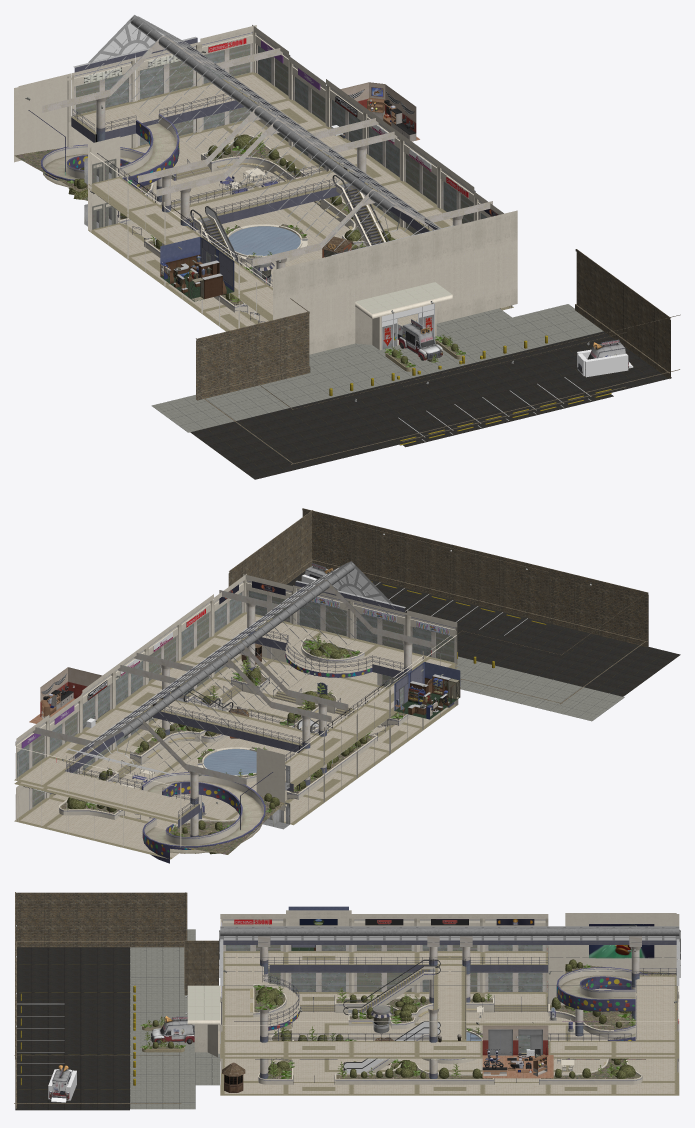
Rendered from mall ice cream 3.glb.
3 views of the same model, one above another, from view 1: azimuth 30°, elevation 25°; view 2: azimuth 150°, elevation 25°; view 3: azimuth 270°, elevation 25° (orthographic). The views are drawn at different scales.
Parts seen in each view (by area): view 1: CentroComercial_ParedExterior, CentroComercial_Asfalto (1), CentroComercial_Asfalto (×2), CentroCOmercial_BaldosaExterior (1), CentroCOmercial_BaldosaExterior, Pared_Esquina (×2), polySurface358, CentroComercial_MuroExterior_4 (7), CentroComercial_MuroExterior_4 (5), VigaTubo, Barandilla (×2), polySurface471 (1) (+33 smaller); view 2: CentroComercial_MuroExterior (×2), CentroComercial_Asfalto (1), polySurface358, CentroCOmercial_BaldosaExterior (1), Barandilla (×2), CentroComercial_MuroExterior_3 (1), CentroComercial_MuroExterior_4 (1), VigaTubo, CentroComercial_Asfalto, CentroComercial_MuroExterior_1 (1), polySurface530, polySurface470 (+30 smaller); view 3: CentroComercial_Asfalto, CentroComercial_Asfalto (1), CentroCOmercial_BaldosaExterior, VigaTubo, CentroCOmercial_BaldosaExterior (1), polySurface358, Pared_Esquina (×2), CentroComercial_MuroExterior_4 (4), CentroComercial_MuroExterior_4 (3), CentroComercial_MuroExterior_4 (2), Barandilla (×2), CentroComercial_MuroExterior_4 (6) (+47 smaller).
Boxes of the visible parts, x1=… form: CentroComercial_ParedExterior: x1=273, y1=210, x2=517, y2=354; CentroComercial_Asfalto (1): x1=190, y1=381, x2=462, y2=479; CentroComercial_Asfalto (×2): x1=399, y1=331, x2=671, y2=447; CentroCOmercial_BaldosaExterior (1): x1=151, y1=355, x2=396, y2=432; CentroCOmercial_BaldosaExterior: x1=360, y1=304, x2=603, y2=381; Pared_Esquina (×2): x1=14, y1=73, x2=131, y2=162; polySurface358: x1=41, y1=114, x2=179, y2=225; CentroComercial_MuroExterior_4 (7): x1=252, y1=311, x2=310, y2=386; CentroComercial_MuroExterior_4 (5): x1=196, y1=325, x2=252, y2=400; VigaTubo: x1=130, y1=16, x2=396, y2=213; Barandilla (×2): x1=72, y1=89, x2=434, y2=286; polySurface471 (1): x1=71, y1=52, x2=135, y2=116; CentroComercial_MuroExterior (×2): x1=350, y1=520, x2=549, y2=622; CentroComercial_Asfalto (1): x1=457, y1=610, x2=680, y2=696; polySurface358: x1=142, y1=772, x2=265, y2=863; CentroCOmercial_BaldosaExterior (1): x1=455, y1=656, x2=624, y2=721; Barandilla (×2): x1=66, y1=627, x2=406, y2=818; CentroComercial_MuroExterior_3 (1): x1=598, y1=580, x2=648, y2=647; CentroComercial_MuroExterior_4 (1): x1=548, y1=568, x2=598, y2=634; VigaTubo: x1=120, y1=562, x2=354, y2=737; CentroComercial_Asfalto: x1=287, y1=571, x2=494, y2=636; CentroComercial_MuroExterior_1 (1): x1=302, y1=508, x2=350, y2=570; polySurface530: x1=350, y1=594, x2=407, y2=650; polySurface470: x1=293, y1=580, x2=350, y2=637; CentroComercial_Asfalto: x1=15, y1=1020, x2=129, y2=1110; CentroComercial_Asfalto (1): x1=17, y1=947, x2=129, y2=1020; CentroCOmercial_BaldosaExterior: x1=130, y1=1019, x2=195, y2=1109; VigaTubo: x1=220, y1=928, x2=679, y2=936; CentroCOmercial_BaldosaExterior (1): x1=130, y1=929, x2=195, y2=1019; polySurface358: x1=548, y1=967, x2=648, y2=1040; Pared_Esquina (×2): x1=565, y1=913, x2=679, y2=972; CentroComercial_MuroExterior_4 (4): x1=130, y1=892, x2=187, y2=947; CentroComercial_MuroExterior_4 (3): x1=73, y1=892, x2=130, y2=947; CentroComercial_MuroExterior_4 (2): x1=16, y1=892, x2=72, y2=947; Barandilla (×2): x1=262, y1=957, x2=676, y2=1040; CentroComercial_MuroExterior_4 (6): x1=184, y1=940, x2=218, y2=995.
Size of what is drawn, in the model's own units: 54.04 by 16.43 by 81.37.
Materials: 21 (17 with a texture image).
